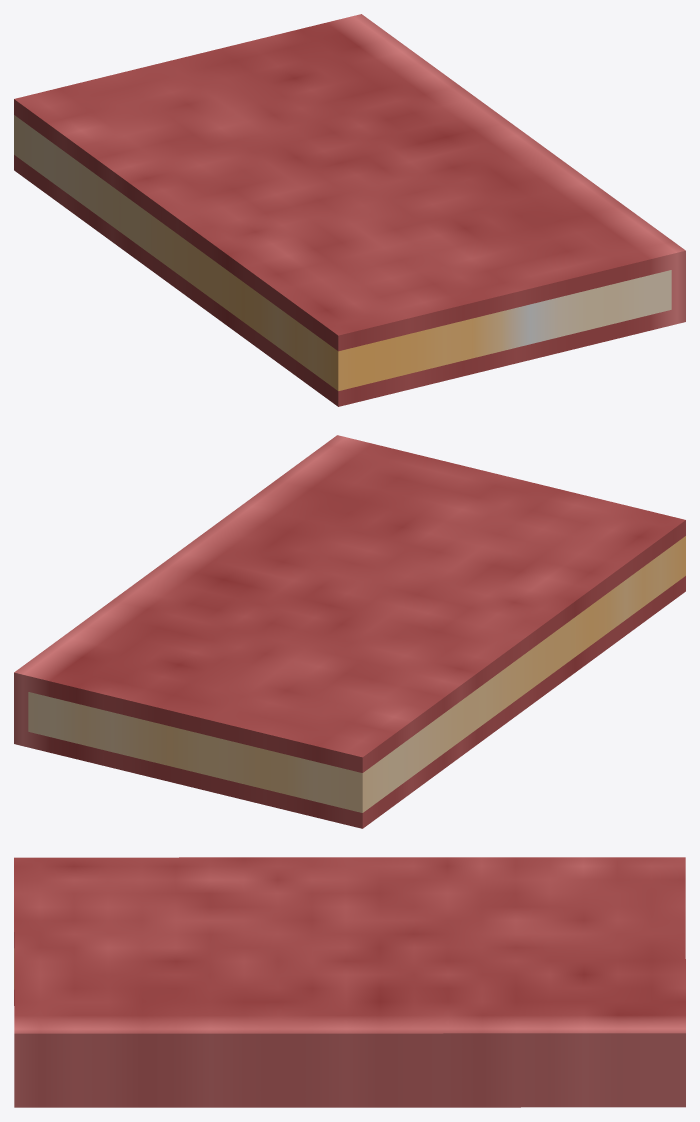
The model's file is BookRed.fbx.
3 renders of one model, top to bottom at view 1: azimuth 30°, elevation 25°; view 2: azimuth 150°, elevation 25°; view 3: azimuth 270°, elevation 25°, orthographic. The views are drawn at different scales.
Visible parts, largest first — view 1: Cube.041; view 2: Cube.041; view 3: Cube.041.
Boxes of the visible parts, left/top/right/bottom form: Cube.041: left=14, top=14, right=685, bottom=406; Cube.041: left=14, top=435, right=685, bottom=828; Cube.041: left=14, top=857, right=685, bottom=1107.
Bounding box in the file's own units: 49.84 × 9.75 × 80.17.
